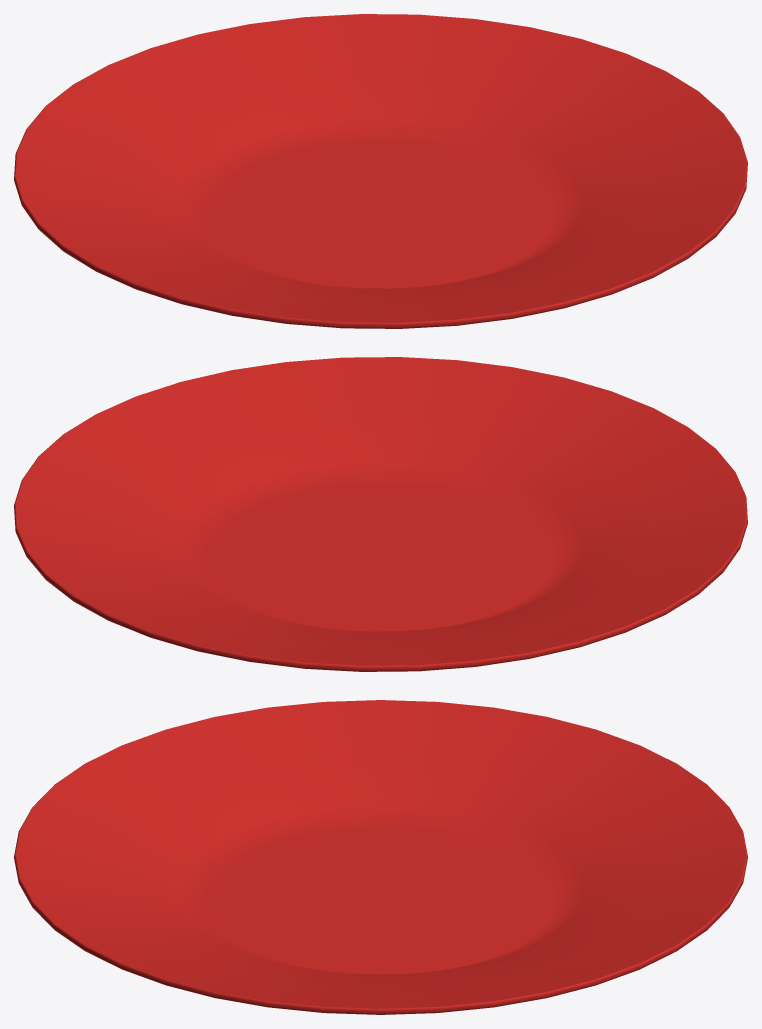
The model's file is plate.fbx.
3 views of the same model, one above another, from view 1: azimuth 30°, elevation 25°; view 2: azimuth 150°, elevation 25°; view 3: azimuth 270°, elevation 25° (orthographic).
Visible parts, largest first — view 1: plate_1; view 2: plate_1; view 3: plate_1.
Part boxes in pixels (x1=…): plate_1: x1=14, y1=14, x2=747, y2=328; plate_1: x1=14, y1=357, x2=747, y2=671; plate_1: x1=14, y1=700, x2=747, y2=1014.
Bounding box in the file's own units: 203 × 18.45 × 203.
